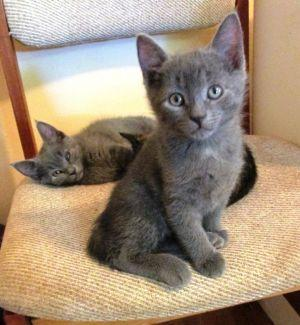rblue: (132, 11, 253, 150)
